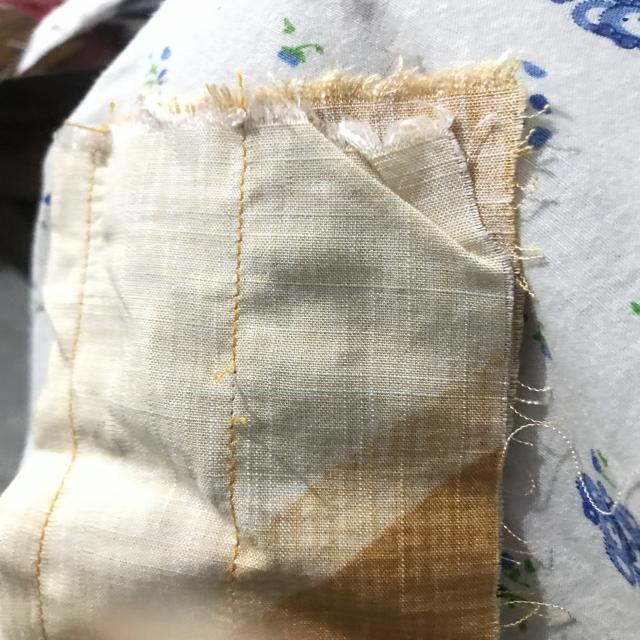broken: (206, 357, 254, 441)
good: (226, 214, 253, 280)
